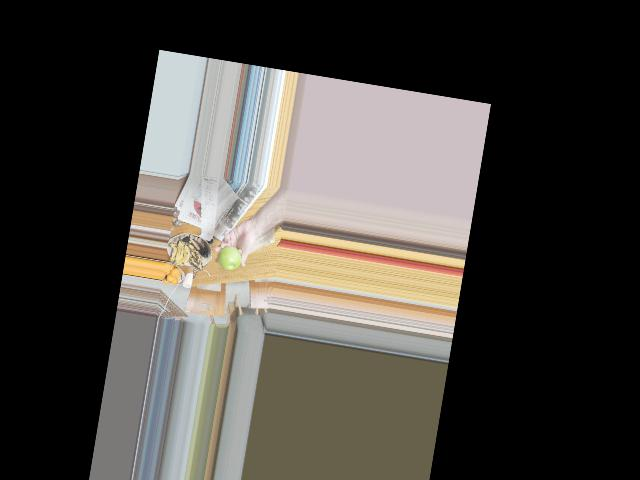apple: (216, 244, 243, 273)
